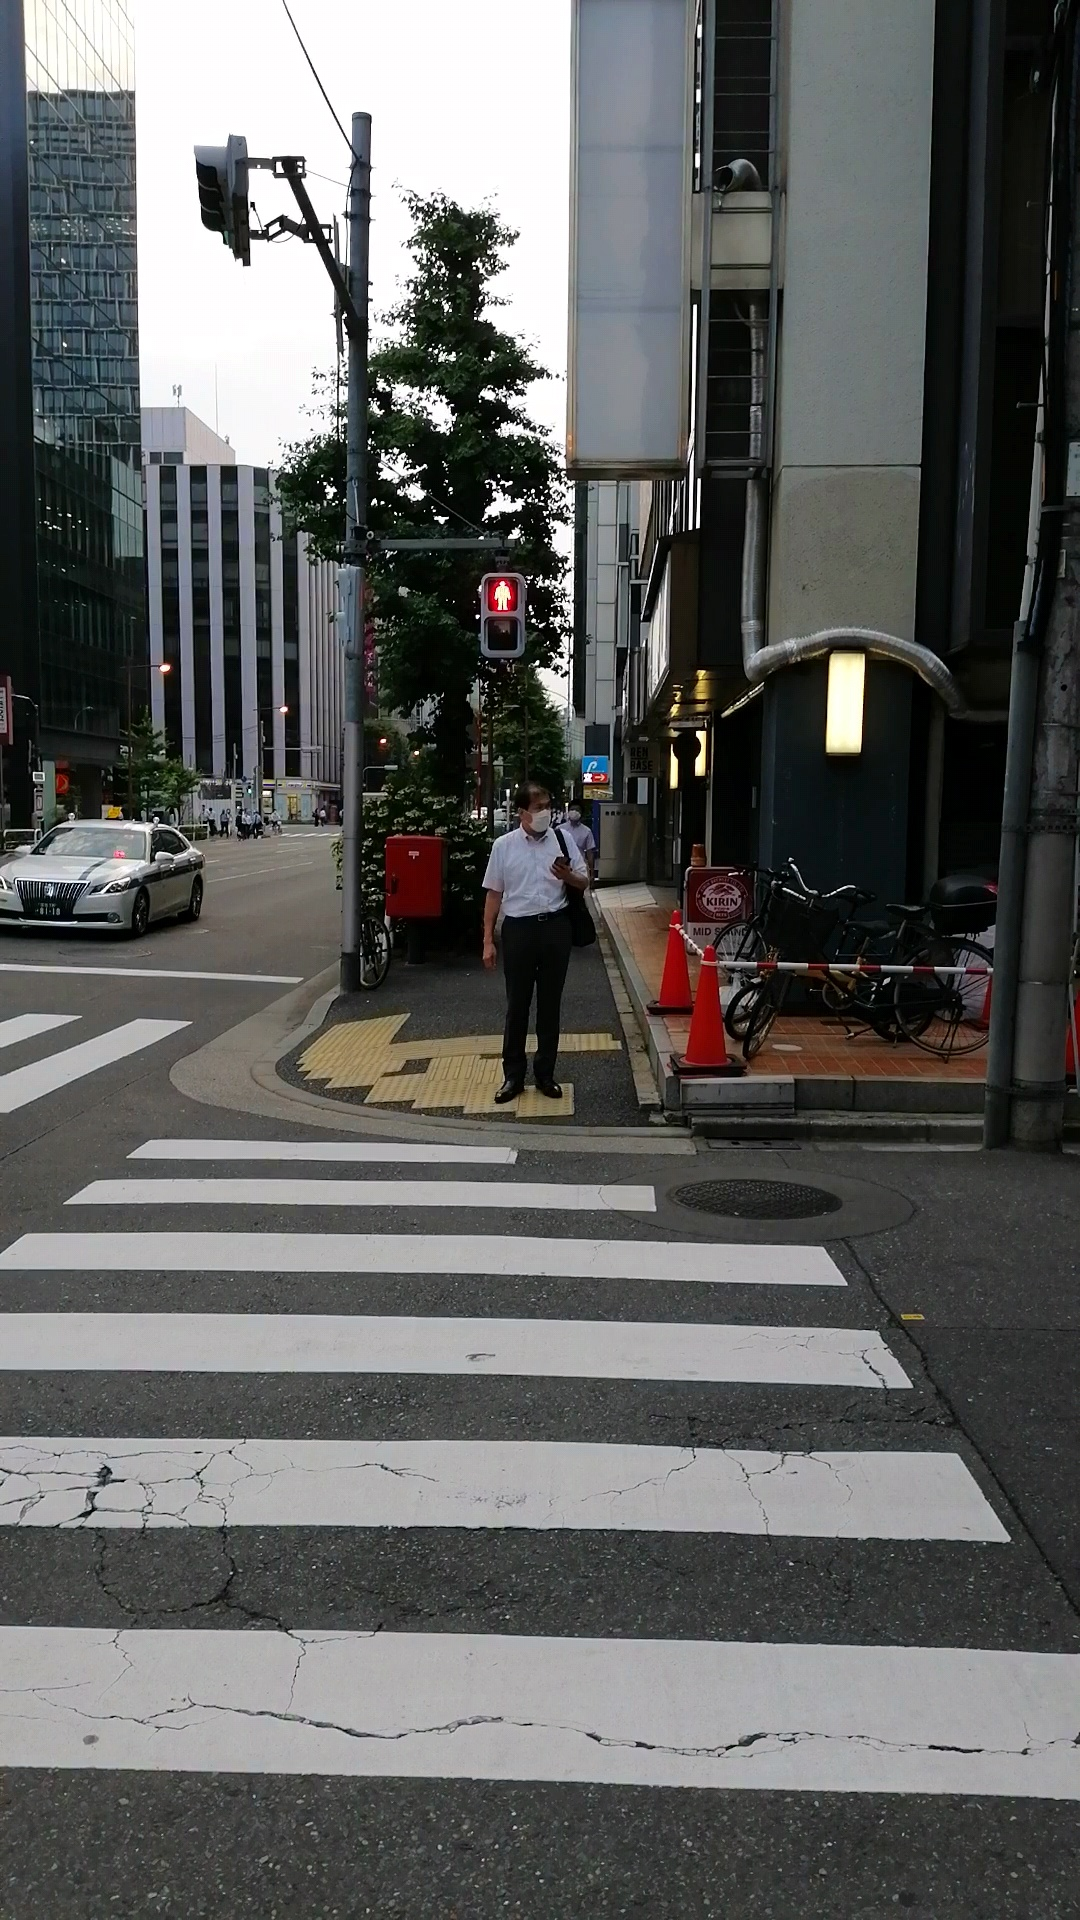red: (477, 571, 525, 659)
